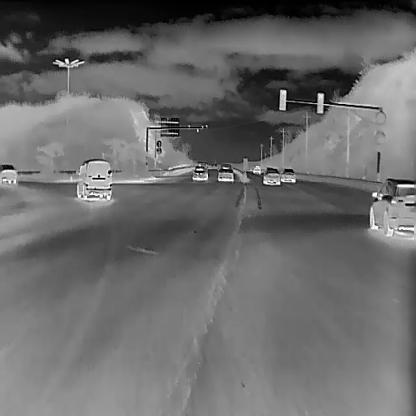car: (370, 176, 416, 238), (76, 159, 112, 200), (0, 164, 15, 186), (217, 162, 233, 182), (263, 166, 280, 184), (192, 164, 208, 180), (280, 167, 295, 182), (252, 164, 260, 173)
